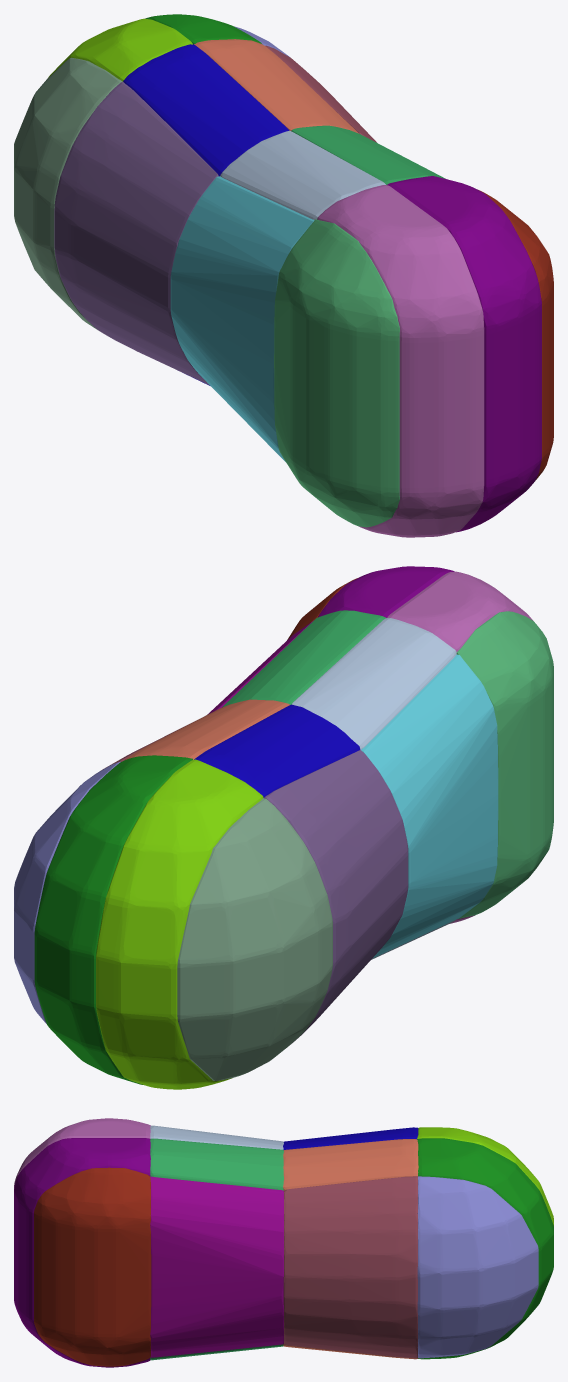
File: th_middle_split.obj
The picture shows the model from 3 angles, top to bottom: view 1: azimuth 30°, elevation 25°; view 2: azimuth 150°, elevation 25°; view 3: azimuth 270°, elevation 25°; orthographic projection. The views are drawn at different scales.
Parts seen in each view (by area): view 1: geometry_3, geometry_7, geometry_1, geometry_2, geometry_11, geometry_0, geometry_5, geometry_6, geometry_9, geometry_4, geometry_15, geometry_10 (+2 smaller); view 2: geometry_0, geometry_4, geometry_2, geometry_8, geometry_1, geometry_3, geometry_6, geometry_5, geometry_10, geometry_7, geometry_12, geometry_9 (+1 smaller); view 3: geometry_13, geometry_14, geometry_15, geometry_12, geometry_11, geometry_8, geometry_10, geometry_9, geometry_7, geometry_6, geometry_4, geometry_5.
Part boxes in pixels (left/top/right/bottom): geometry_3: left=274, top=219, right=399, bottom=527; geometry_7: left=317, top=185, right=484, bottom=537; geometry_1: left=54, top=82, right=218, bottom=384; geometry_2: left=170, top=176, right=314, bottom=461; geometry_11: left=387, top=176, right=541, bottom=532; geometry_0: left=14, top=57, right=122, bottom=329; geometry_5: left=123, top=44, right=289, bottom=385; geometry_6: left=220, top=130, right=385, bottom=219; geometry_9: left=194, top=39, right=358, bottom=133; geometry_4: left=48, top=18, right=192, bottom=81; geometry_15: left=479, top=190, right=553, bottom=480; geometry_10: left=291, top=125, right=445, bottom=184; geometry_0: left=177, top=798, right=332, bottom=1080; geometry_4: left=96, top=759, right=263, bottom=1089; geometry_2: left=361, top=654, right=498, bottom=958; geometry_8: left=34, top=755, right=192, bottom=1084; geometry_1: left=264, top=750, right=408, bottom=1042; geometry_3: left=456, top=611, right=553, bottom=918; geometry_6: left=291, top=618, right=456, bottom=959; geometry_5: left=194, top=704, right=360, bottom=797; geometry_10: left=222, top=610, right=386, bottom=707; geometry_7: left=387, top=571, right=532, bottom=923; geometry_12: left=14, top=761, right=120, bottom=1023; geometry_9: left=125, top=699, right=289, bottom=759; geometry_13: left=283, top=1176, right=417, bottom=1358; geometry_14: left=150, top=1176, right=283, bottom=1357; geometry_15: left=34, top=1167, right=151, bottom=1366; geometry_12: left=417, top=1176, right=538, bottom=1358; geometry_11: left=14, top=1138, right=150, bottom=1367; geometry_8: left=417, top=1138, right=553, bottom=1359; geometry_10: left=150, top=1138, right=283, bottom=1360; geometry_9: left=283, top=1139, right=418, bottom=1359; geometry_7: left=14, top=1118, right=150, bottom=1188; geometry_6: left=150, top=1125, right=283, bottom=1149; geometry_4: left=417, top=1127, right=553, bottom=1225; geometry_5: left=283, top=1127, right=418, bottom=1149.
Bounding box in the file's own units: 21.96 × 22.5 × 52.02.
